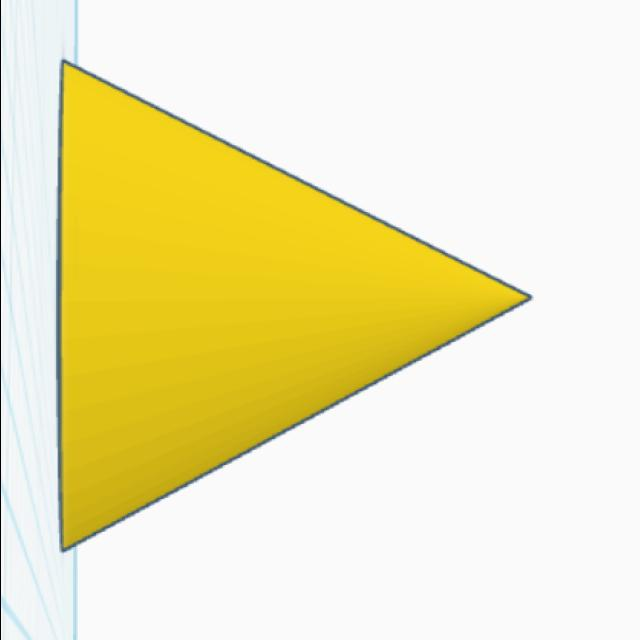cone: (51, 55, 538, 557)
